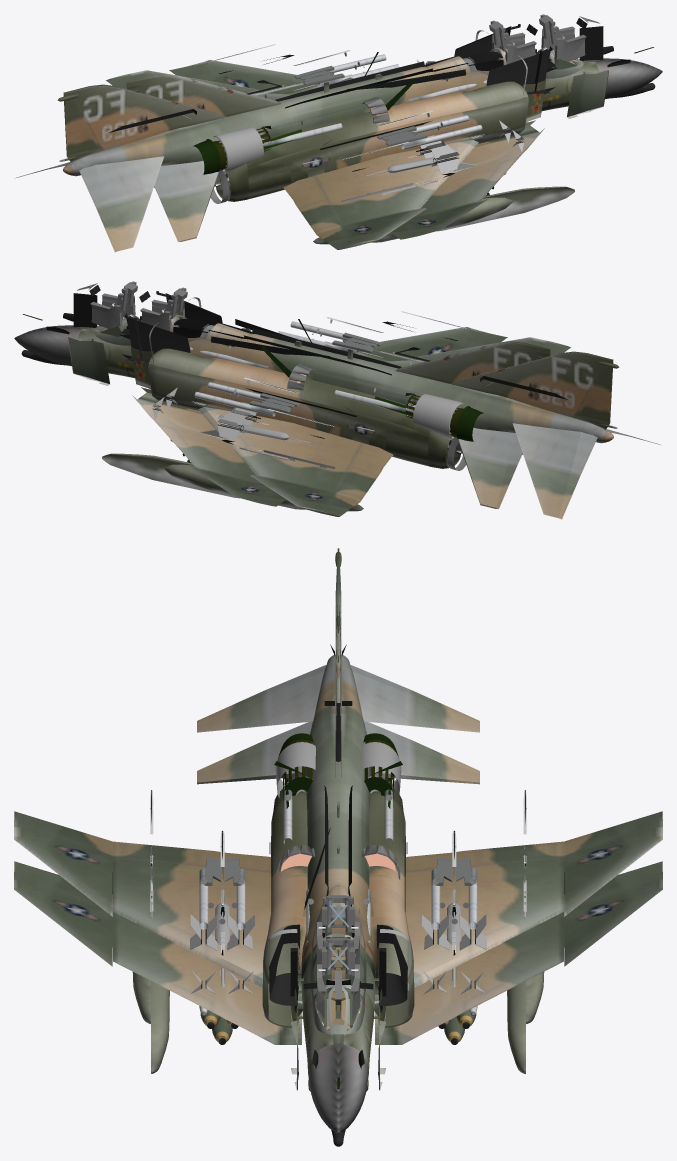
The model's file is enemy-v1.glb.
3 views of the same model, one above another, from view 1: azimuth 30°, elevation 25°; view 2: azimuth 150°, elevation 25°; view 3: azimuth 270°, elevation 25° (orthographic). The views are drawn at different scales.
Visible parts, largest first — view 1: Object_4, Object_8, Object_6, Object_9, Object_23, Object_19, Object_24, Object_17; view 2: Object_4, Object_8, Object_6, Object_9, Object_23, Object_19, Object_24, Object_17; view 3: Object_4, Object_8, Object_6, Object_9, Object_23, Object_19, Object_24.
Boxes of the visible parts, left/top/right/bottom form: Object_4: left=15, top=46, right=662, bottom=252; Object_8: left=126, top=50, right=608, bottom=241; Object_6: left=109, top=14, right=630, bottom=195; Object_9: left=193, top=30, right=653, bottom=202; Object_23: left=263, top=54, right=486, bottom=149; Object_19: left=294, top=65, right=427, bottom=146; Object_24: left=208, top=44, right=486, bottom=171; Object_17: left=335, top=77, right=389, bottom=124; Object_4: left=14, top=313, right=661, bottom=519; Object_8: left=68, top=317, right=550, bottom=508; Object_6: left=46, top=281, right=567, bottom=462; Object_9: left=23, top=297, right=483, bottom=469; Object_23: left=190, top=321, right=413, bottom=416; Object_19: left=249, top=332, right=382, bottom=413; Object_24: left=190, top=311, right=467, bottom=438; Object_17: left=287, top=344, right=341, bottom=391; Object_4: left=14, top=548, right=662, bottom=1146; Object_8: left=14, top=605, right=662, bottom=1090; Object_6: left=112, top=644, right=564, bottom=1068; Object_9: left=150, top=733, right=526, bottom=1089; Object_23: left=199, top=786, right=477, bottom=944; Object_19: left=204, top=857, right=472, bottom=885; Object_24: left=150, top=790, right=526, bottom=955.
Size of the model in its own units: 683075 by 185637 by 453180.
Materials: 13 (13 with a texture image).
